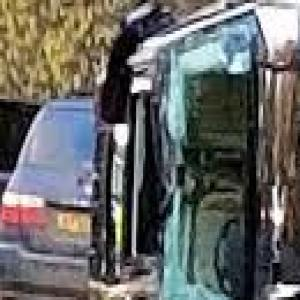severe: (92, 0, 300, 300)
